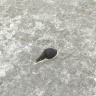Dog: (36, 48, 57, 64)
